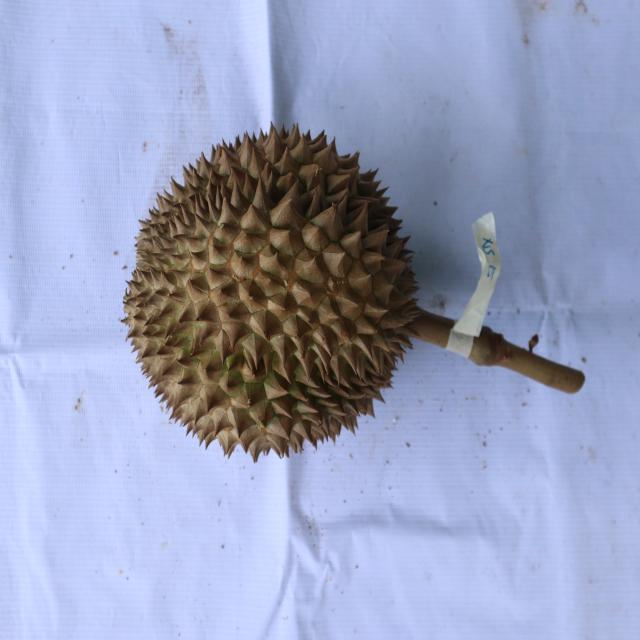mature: (118, 118, 424, 463)
